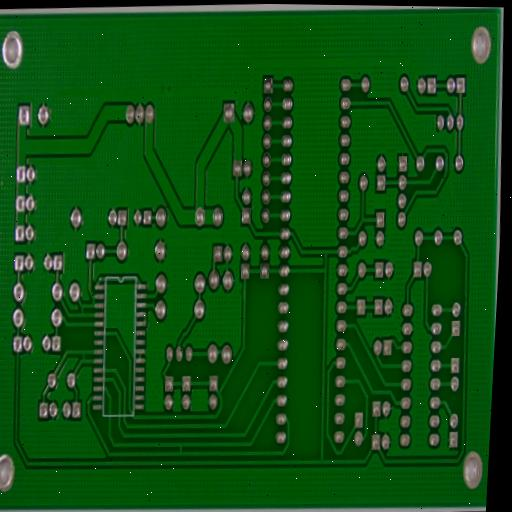short_circuit: (76, 298, 87, 319), (174, 439, 185, 460), (79, 346, 88, 365), (89, 293, 97, 307)
